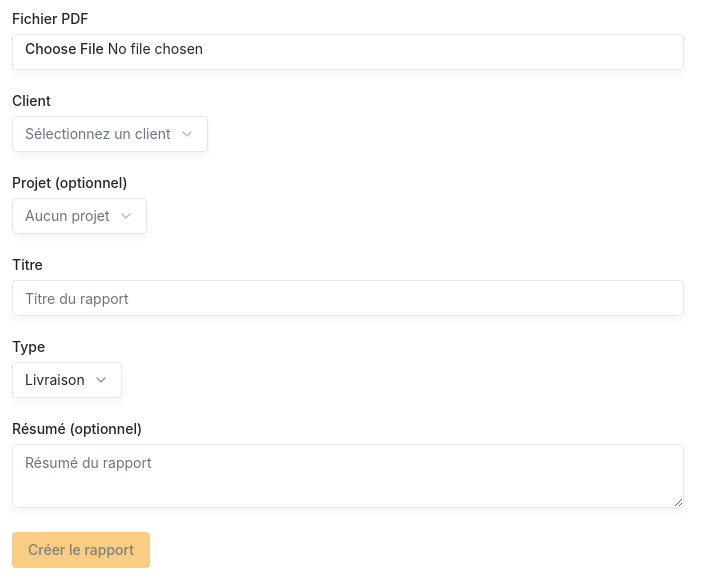
Scenario: ReportForm › T6: projects filtered by selected clientId
Step 1. Click the dropdown with test id "report-client-select" → (110, 134), box [12, 116, 208, 152]
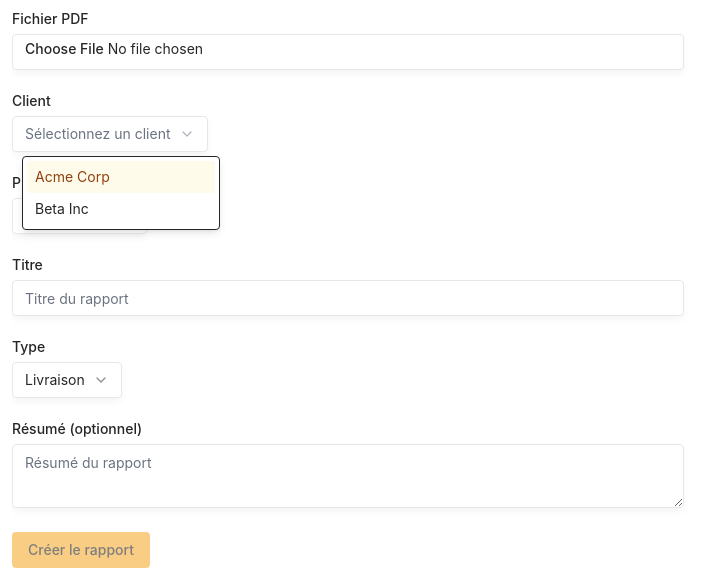
Step 2. Click the option "Acme Corp" → (121, 177), box [27, 161, 214, 193]
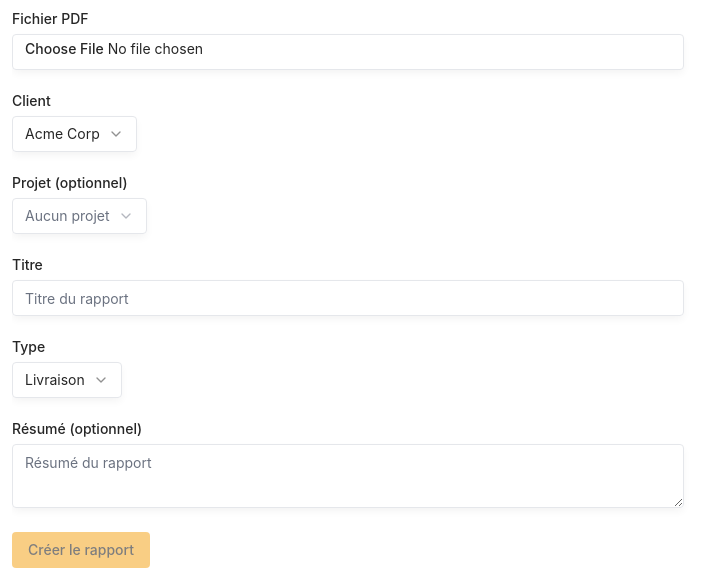
Step 3. Click the dropdown with test id "report-project-select" → (79, 216), box [12, 198, 147, 234]
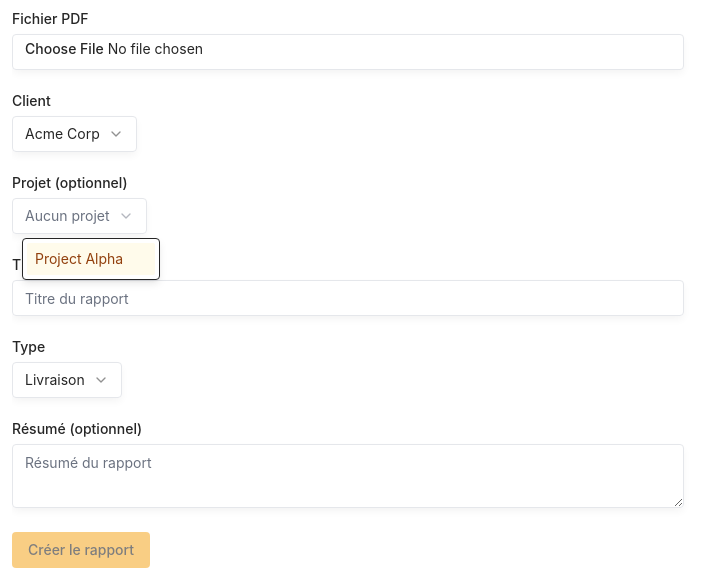
Now the text "Project Alpha" is shown, box [35, 249, 123, 269]
